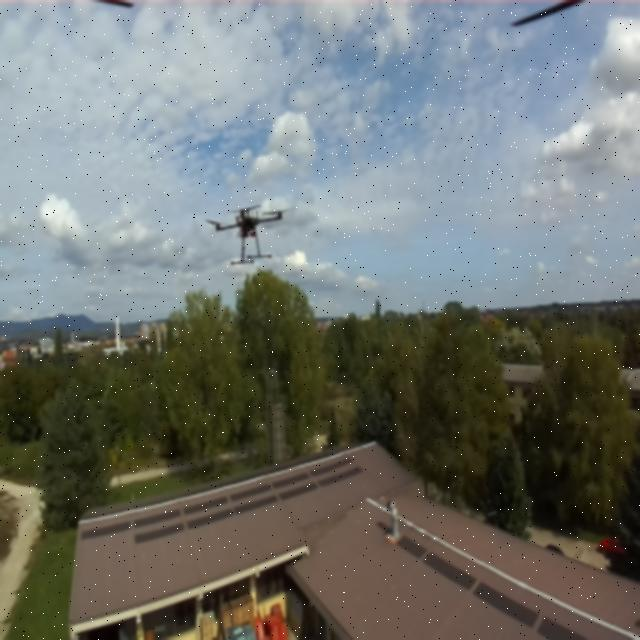UAV: (204, 192, 294, 268)
